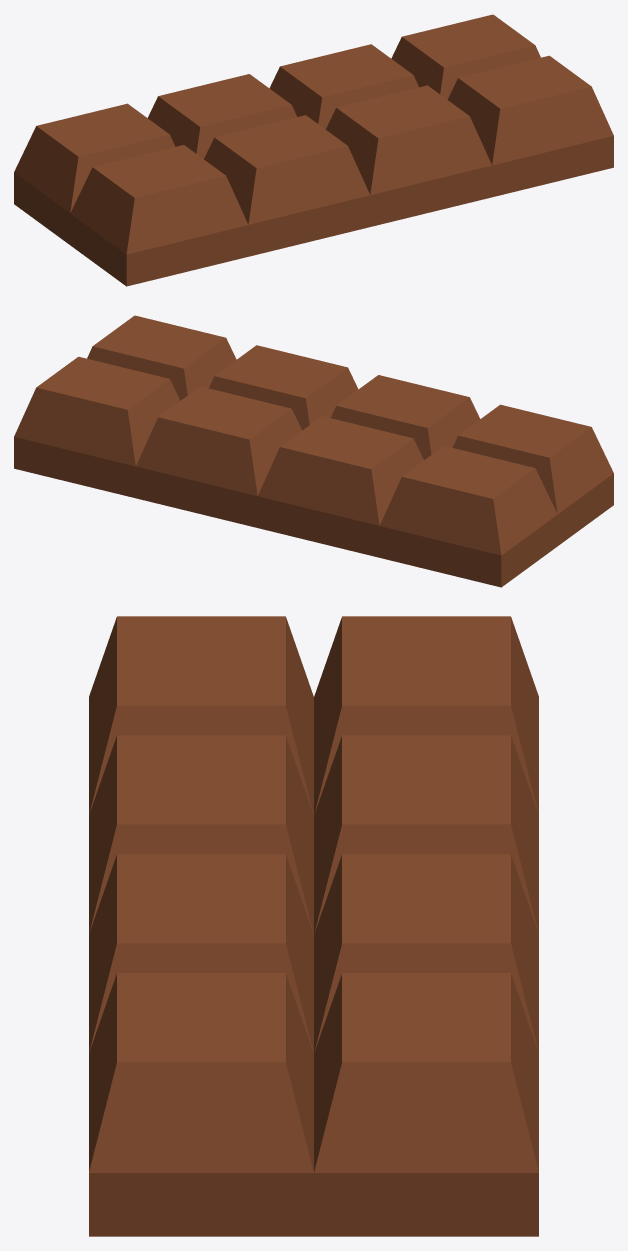
Rendered from ChocolateBar1.fbx.
3 renders of one model, top to bottom at view 1: azimuth 30°, elevation 25°; view 2: azimuth 150°, elevation 25°; view 3: azimuth 270°, elevation 25°, orthographic. The views are drawn at different scales.
Visible parts, largest first — view 1: Cube; view 2: Cube; view 3: Cube.
Part boxes in pixels (<box>): Cube: <box>14,14,613,286</box>; Cube: <box>14,315,613,587</box>; Cube: <box>89,616,538,1236</box>.
Size of the model in its own units: 0.4 by 0.0625 by 0.16.
